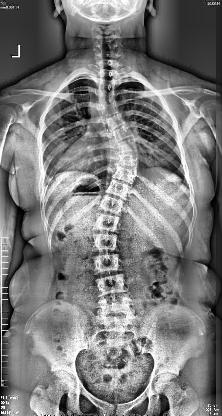Vertebrae: (94, 275, 128, 295), (98, 298, 134, 316), (91, 254, 123, 274), (92, 214, 122, 232), (92, 235, 122, 252), (99, 197, 127, 213), (114, 158, 142, 172), (104, 182, 132, 196), (112, 168, 139, 182), (115, 143, 140, 157), (110, 127, 134, 141), (97, 105, 120, 117), (104, 116, 126, 128), (97, 93, 117, 104), (100, 68, 118, 80), (98, 80, 116, 92)
